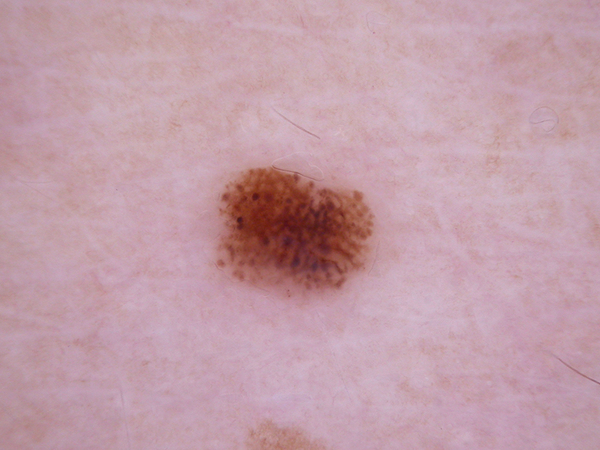Detected Lesion: (210, 161, 382, 304)
